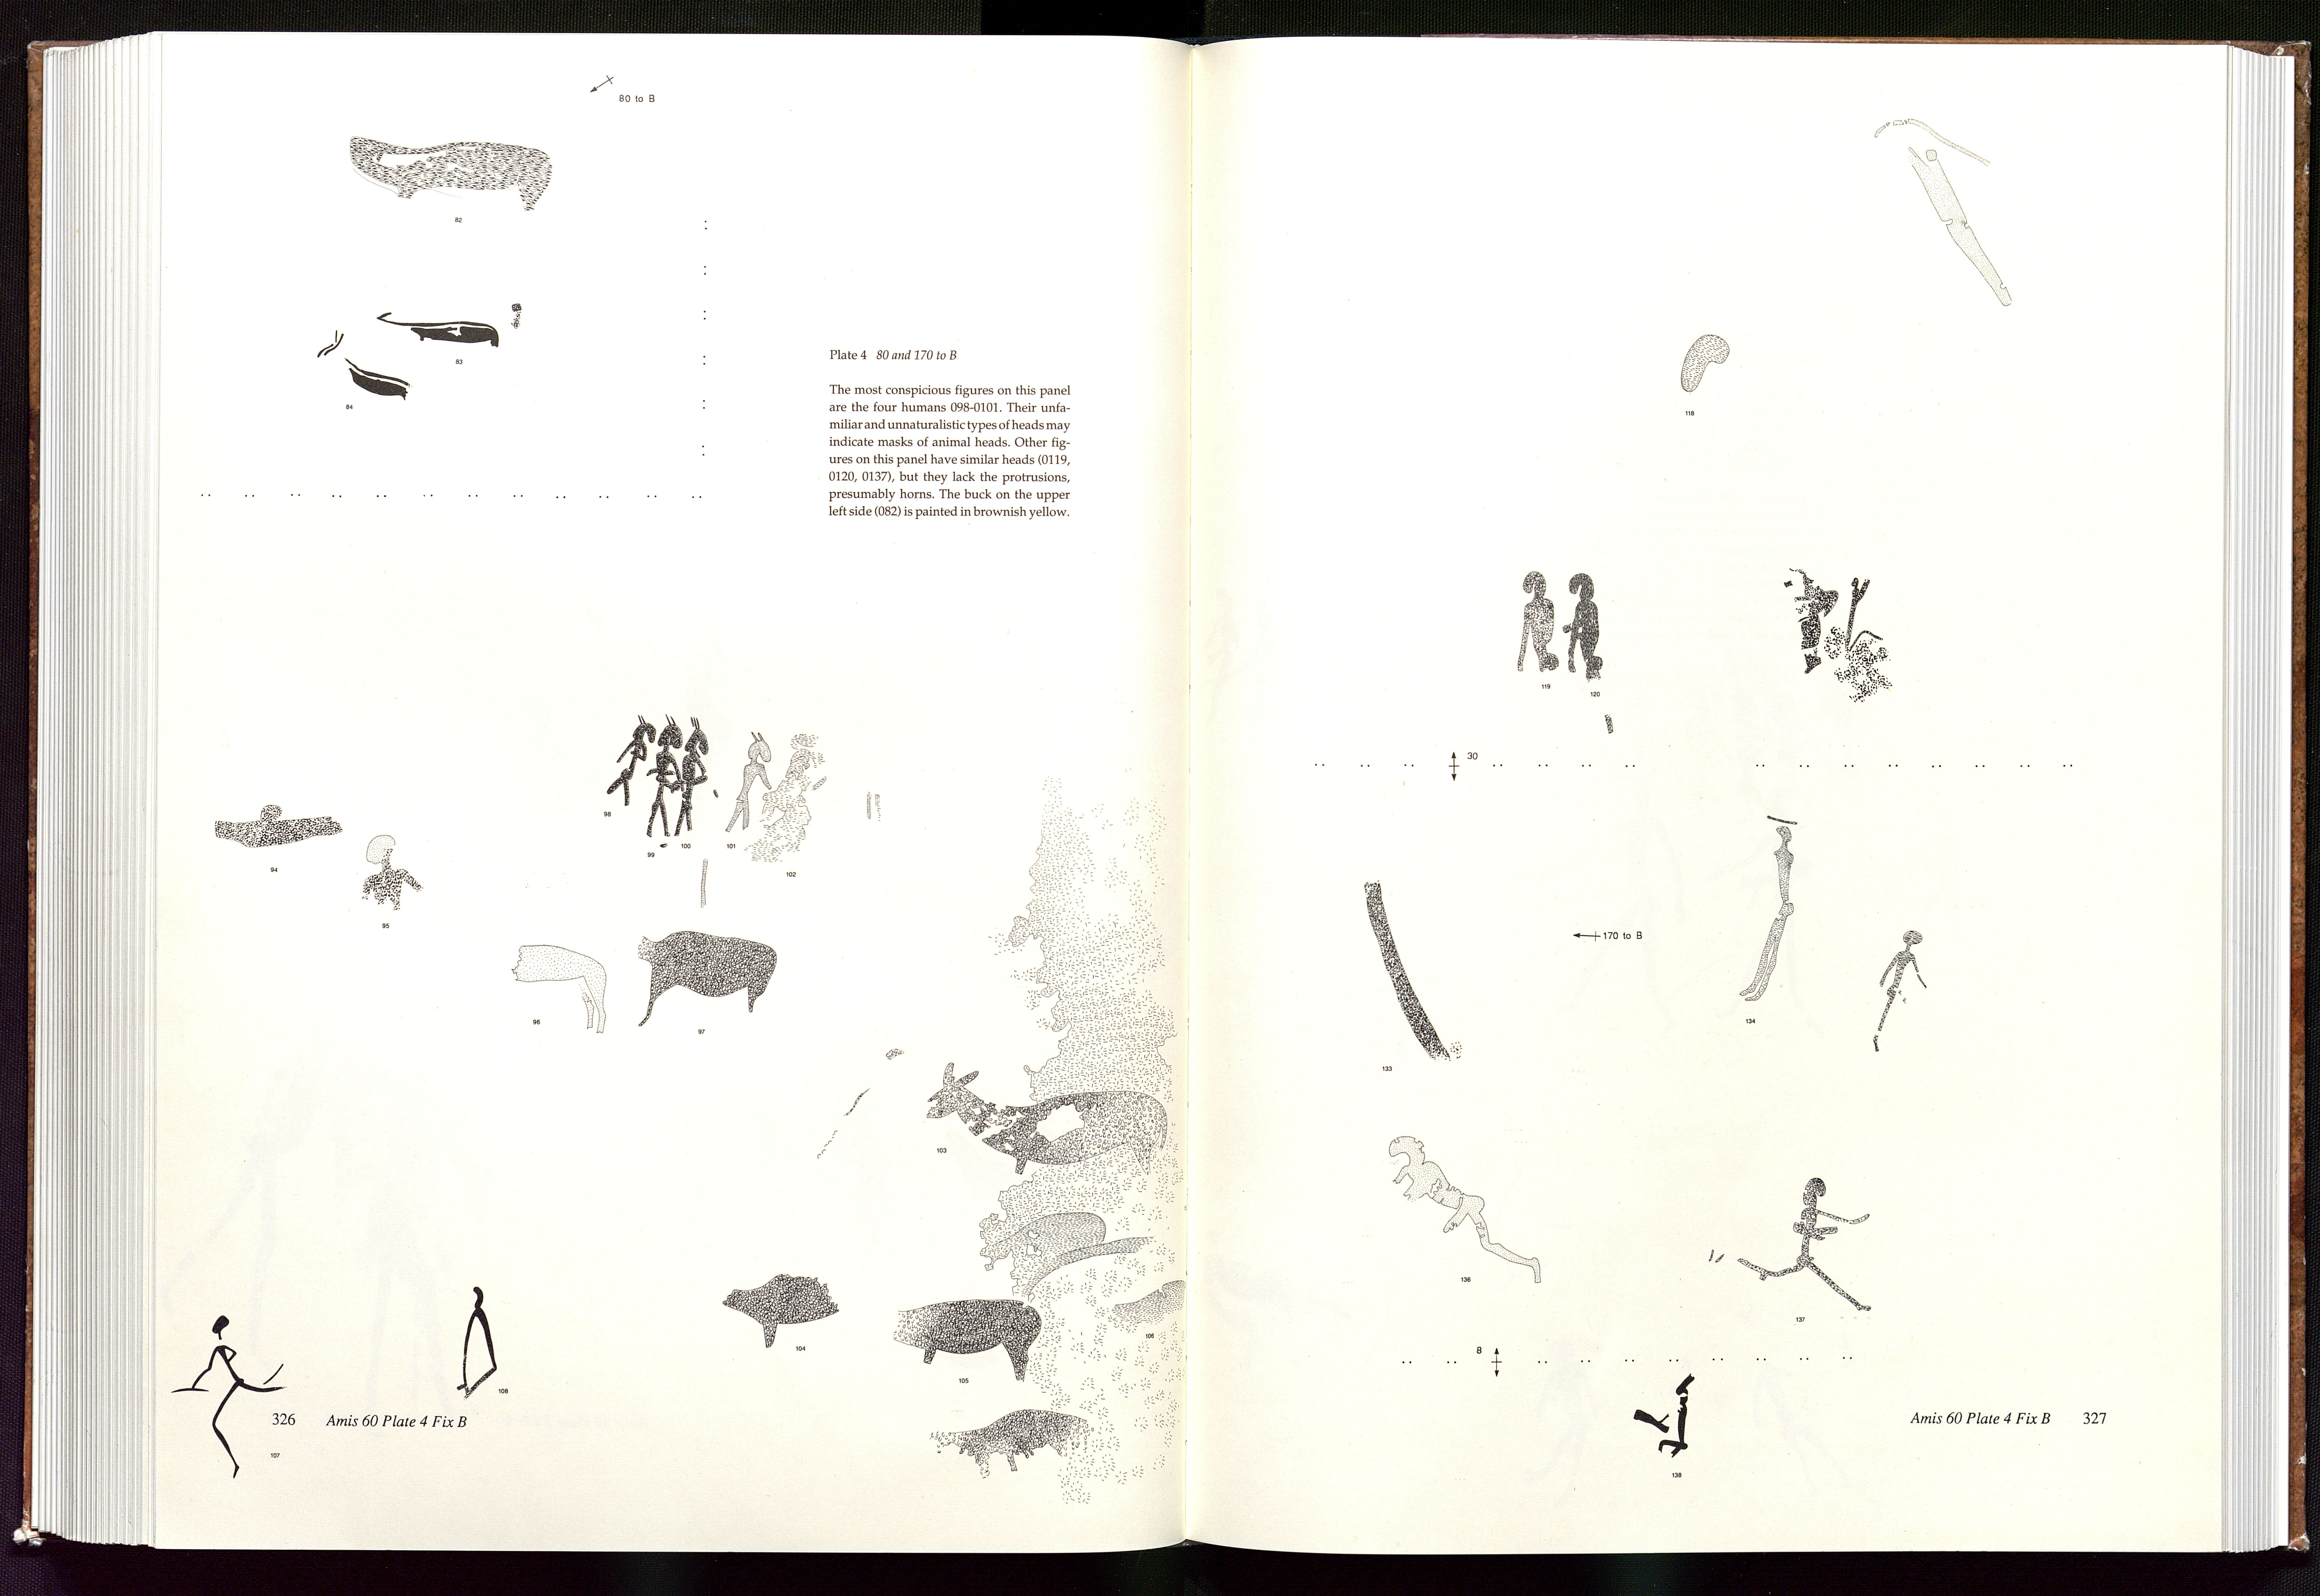animal: (920, 1057, 1177, 1187), (343, 125, 559, 223), (629, 924, 791, 1035), (885, 1291, 1049, 1385), (922, 1403, 1107, 1484), (707, 1260, 848, 1344), (971, 1205, 1115, 1285), (503, 935, 616, 1036), (313, 329, 414, 408), (378, 304, 505, 358)
human: (1377, 1127, 1552, 1287), (169, 1303, 298, 1487), (1733, 1165, 1881, 1319), (1734, 811, 1798, 1006), (1562, 568, 1618, 741), (1870, 928, 1934, 1056), (351, 826, 432, 919), (723, 722, 773, 841), (1517, 564, 1563, 680), (644, 715, 685, 839), (603, 713, 654, 808), (678, 716, 707, 836), (1655, 1375, 1695, 1460)
